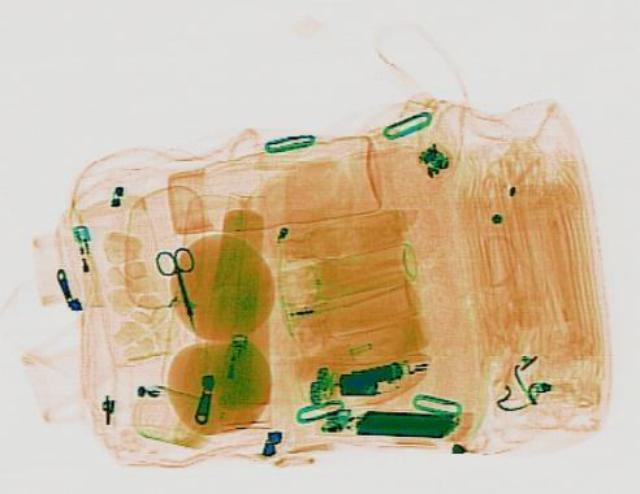Scissors: (153, 244, 209, 330)
